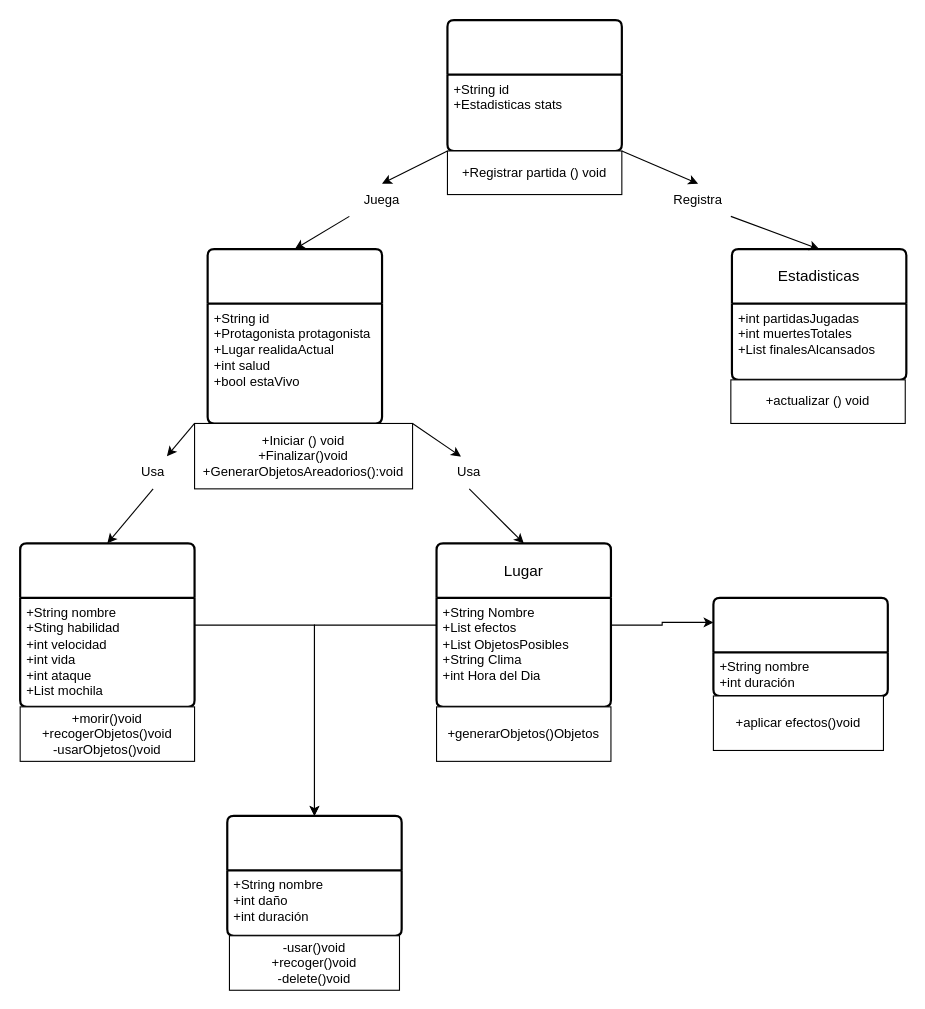
Some shapes in this 925 by 1009 pixel diagram are drawn without their labels. Each missing label, with the box of its shape:
Efecto: (712, 596, 888, 697)
Objeto: (226, 814, 402, 936)
Partida: (206, 247, 383, 424)
Protagonista: (19, 542, 195, 707)
Usuario: (446, 19, 622, 152)
